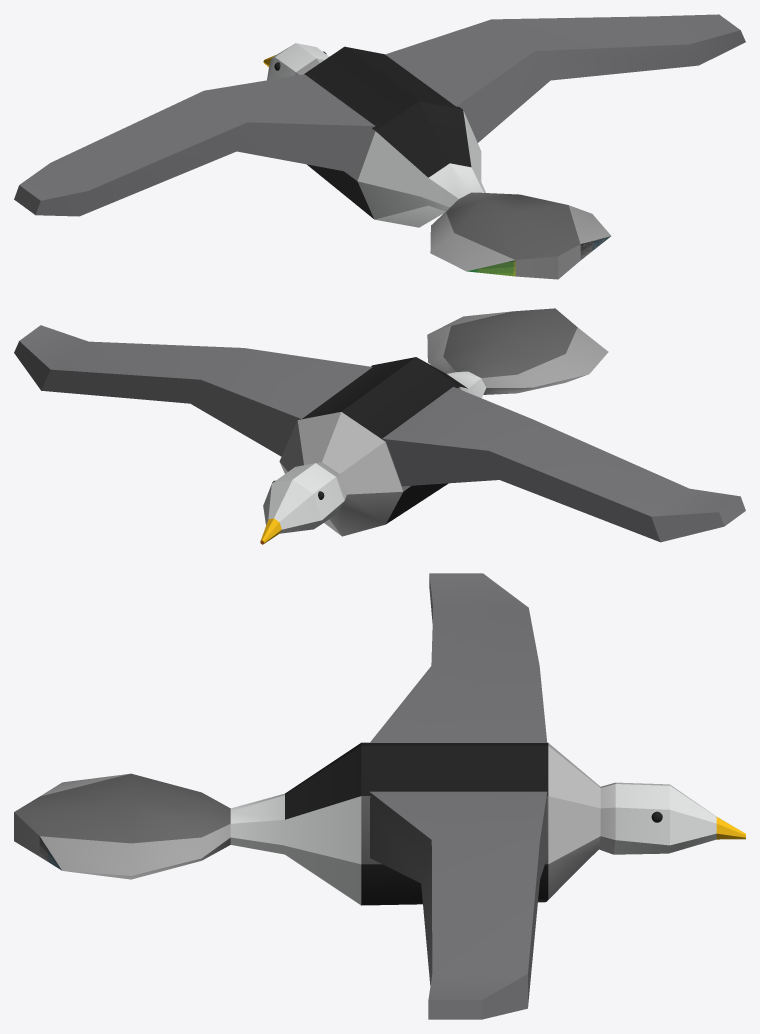
File: bird_flying.glb
3 renders of one model, top to bottom at view 1: azimuth 30°, elevation 25°; view 2: azimuth 150°, elevation 25°; view 3: azimuth 270°, elevation 25°, orthographic. The views are drawn at different scales.
Parts seen in each view (by area): view 1: Icosphere, Icosphere.001, Icosphere.002; view 2: Icosphere, Icosphere.001, Icosphere.002; view 3: Icosphere, Icosphere.002, Icosphere.001.
Boxes of the visible parts, x1,y1,x2,y2 form: Icosphere: (263,43,610,279); Icosphere.001: (14,74,375,216); Icosphere.002: (385,14,745,142); Icosphere: (260,308,608,544); Icosphere.001: (382,387,745,542); Icosphere.002: (14,325,372,456); Icosphere: (14,742,745,905); Icosphere.002: (369,791,547,1019); Icosphere.001: (370,573,547,742).
Bounding box in the file's own units: 2.21 × 0.3751 × 1.58.
Materials: 2 (1 with a texture image).
